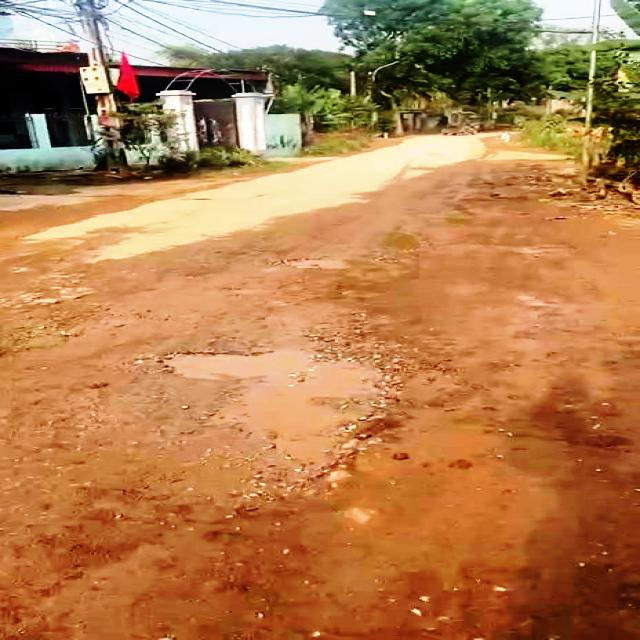pothole: (154, 350, 400, 476)
